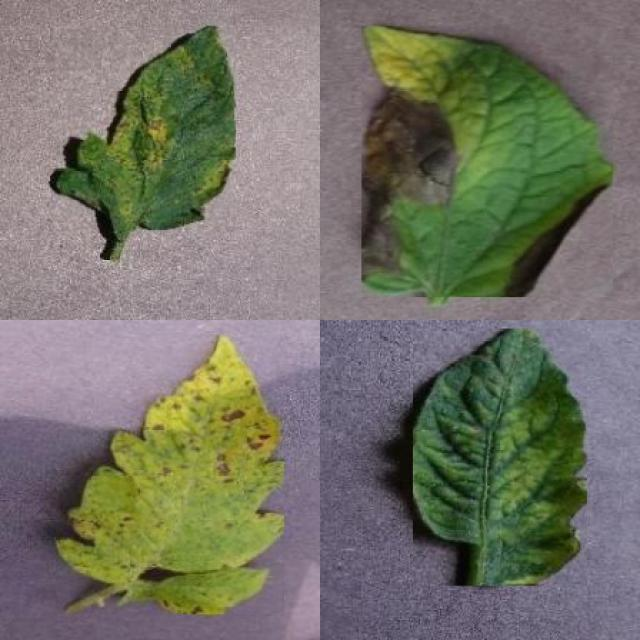Early Blight: (362, 26, 614, 297)
Mosaic Virus: (413, 328, 587, 586)
Septoria: (56, 335, 284, 615), (54, 26, 236, 231)
